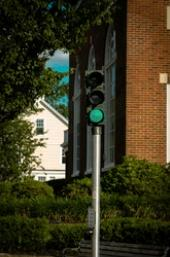green_light: (85, 71, 108, 125)
